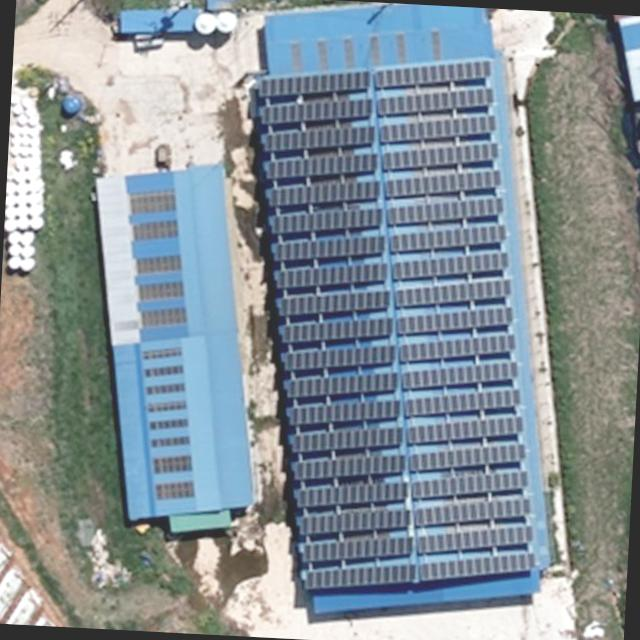solar: (410, 461, 530, 508), (398, 353, 522, 398), (410, 489, 533, 534), (404, 408, 526, 453), (392, 271, 514, 316), (402, 382, 525, 426), (393, 298, 516, 342), (397, 326, 518, 370), (384, 218, 510, 260), (384, 190, 507, 233), (414, 518, 534, 562), (408, 435, 528, 479), (376, 80, 496, 124), (382, 164, 504, 207), (388, 244, 511, 286), (376, 108, 498, 150), (418, 546, 538, 588), (258, 62, 372, 106), (274, 255, 390, 298), (379, 136, 502, 176), (371, 58, 494, 98), (302, 556, 418, 598), (259, 92, 375, 134), (273, 228, 387, 270), (265, 145, 379, 187), (264, 118, 378, 160), (268, 173, 381, 215), (290, 392, 401, 434), (282, 338, 397, 378), (277, 282, 391, 322), (284, 365, 400, 404), (301, 530, 414, 570), (294, 449, 406, 488), (298, 504, 412, 542), (293, 419, 404, 458), (281, 312, 395, 349), (296, 477, 409, 514), (272, 202, 382, 239)
